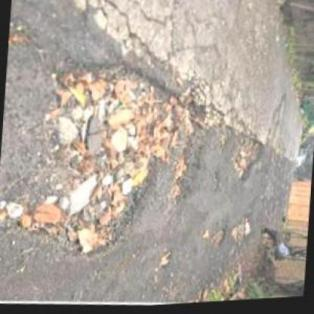Hueco: (0, 46, 214, 271), (230, 133, 264, 189), (233, 216, 255, 249), (213, 230, 229, 250)
